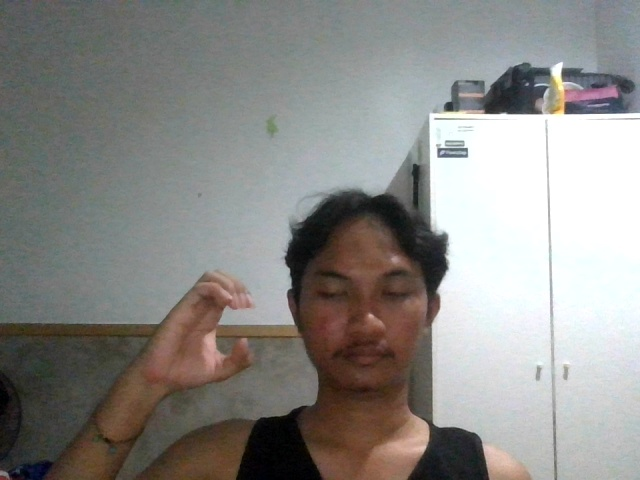c: (139, 247, 271, 406)
